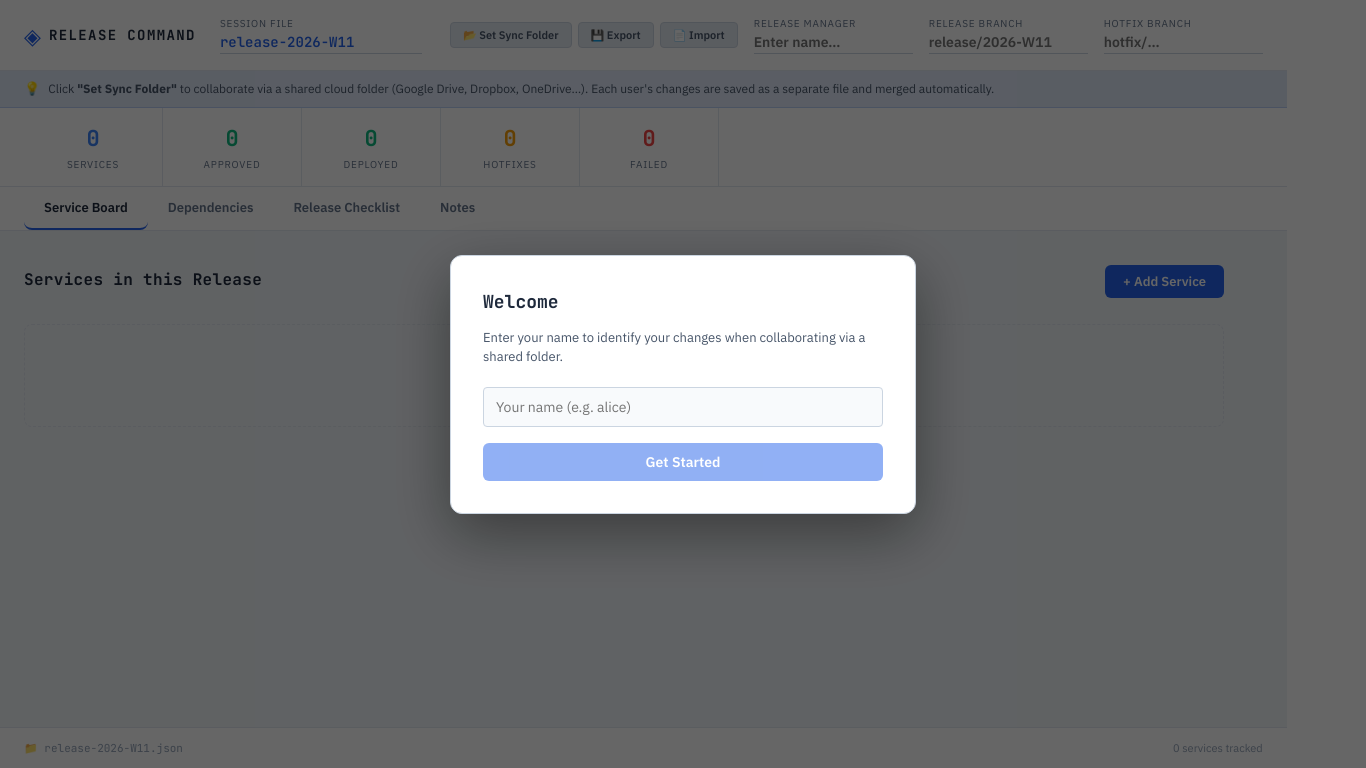
Scenario: Username modal › dismisses the modal and stores username on confirm
Type "alice" into the field with placeholder "Your name (e.g. alice)" at (683, 406), box [483, 386, 883, 426]
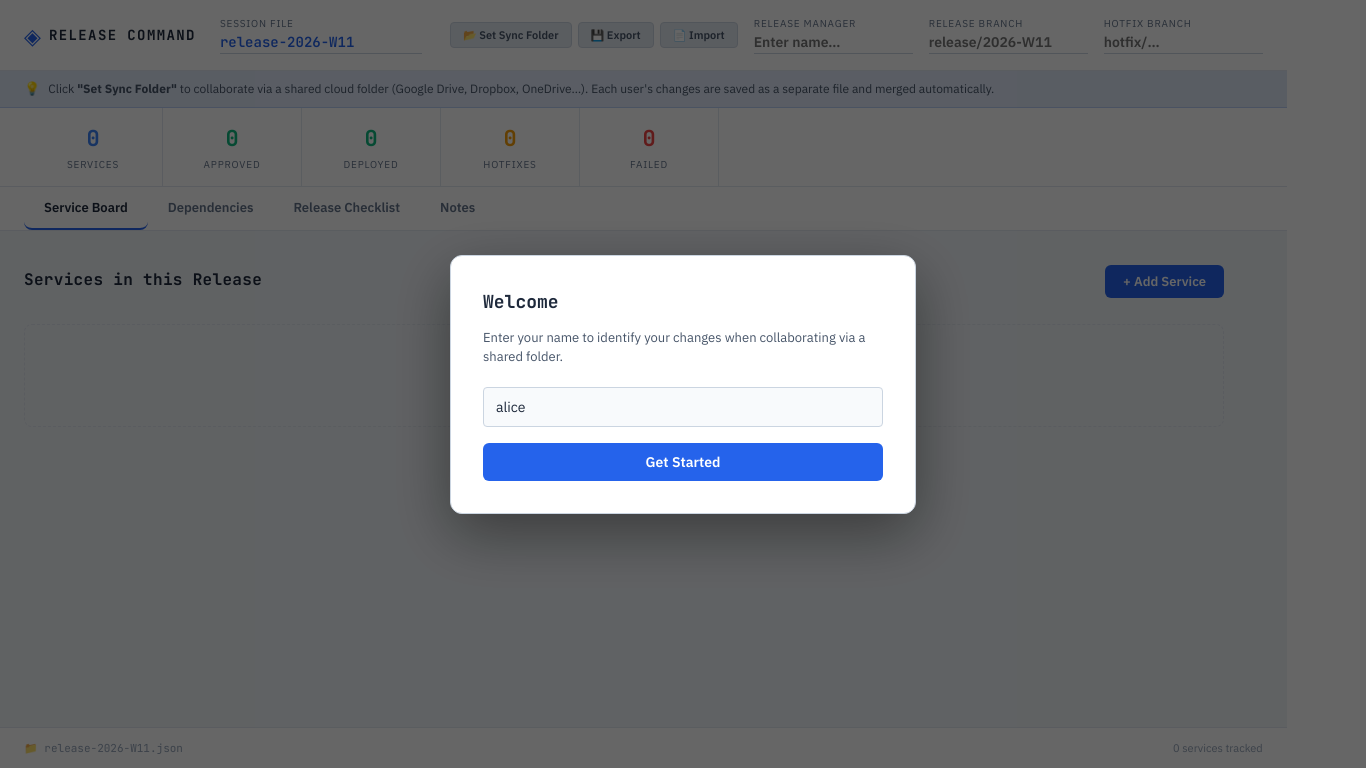
Click the button "Get Started" at (683, 462), box [483, 442, 883, 480]
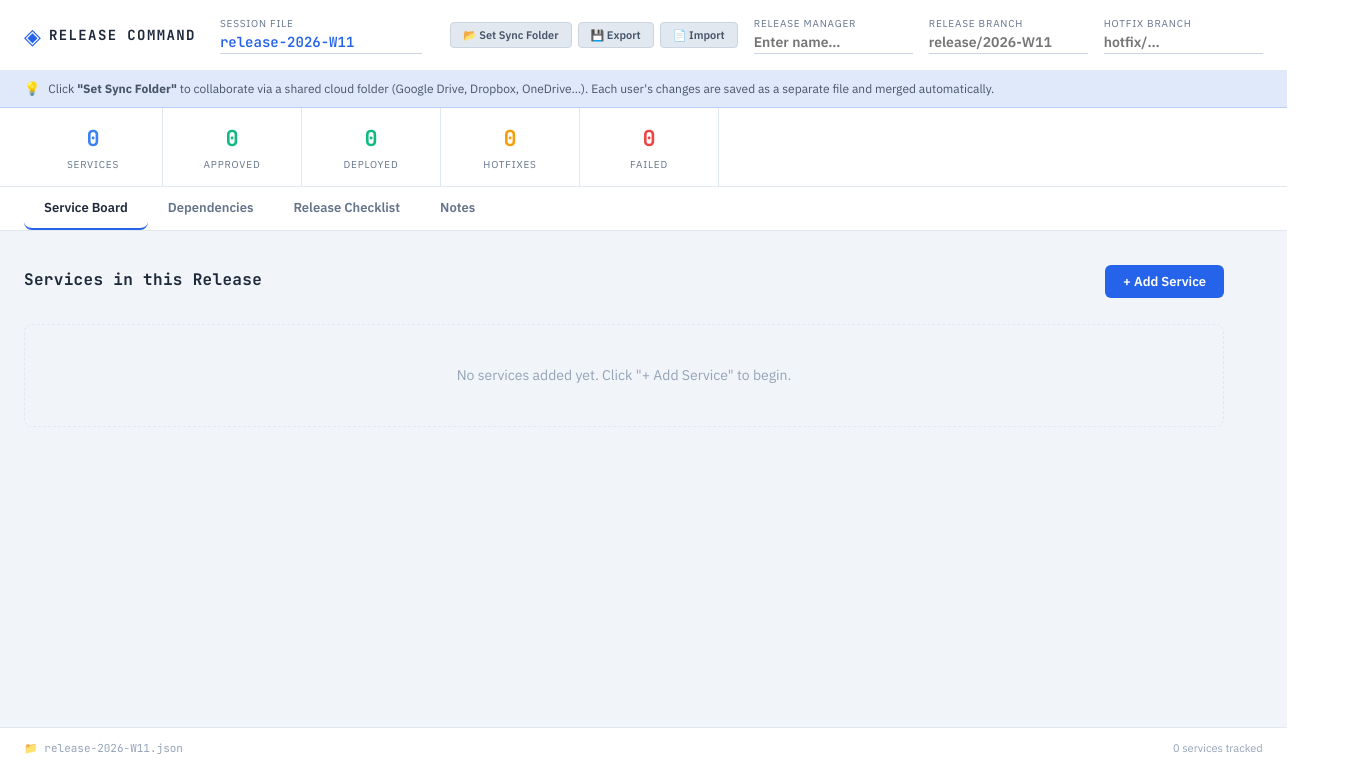
Result: the heading "Welcome" is gone
